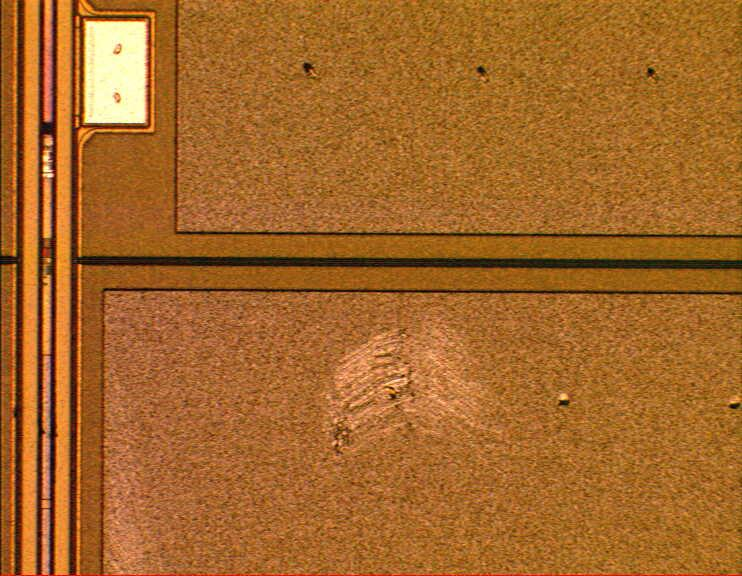SCRATCH: (85, 310, 522, 576)
